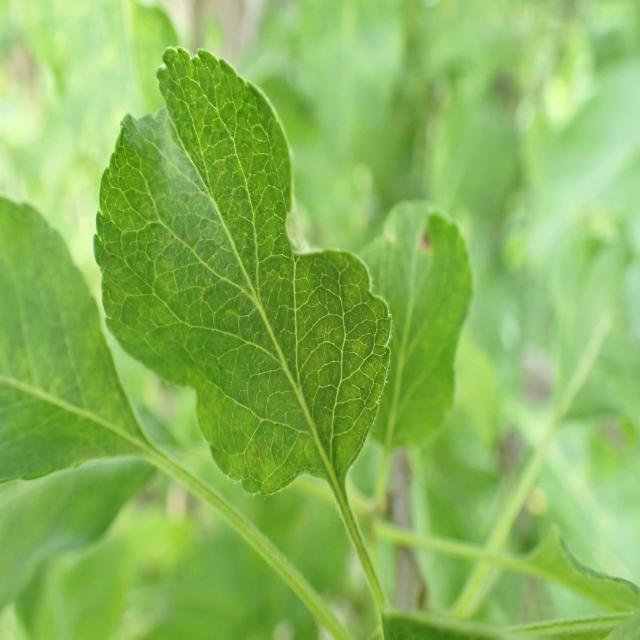scab: (102, 84, 337, 490)
